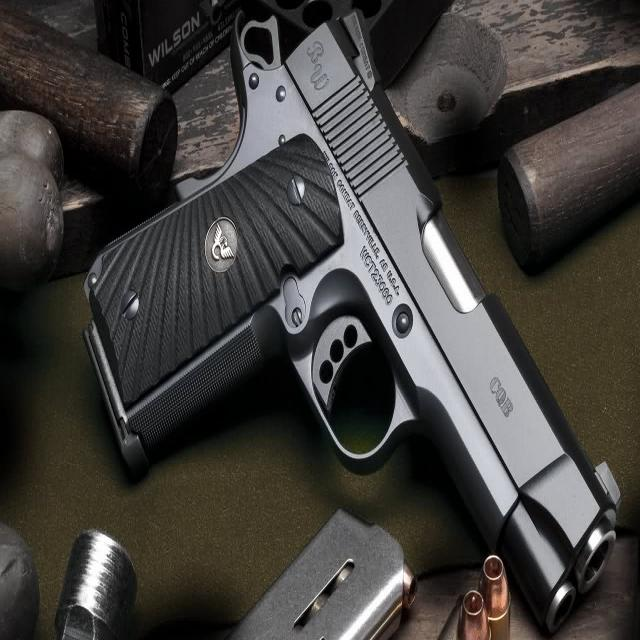handgun: (86, 12, 620, 634)
